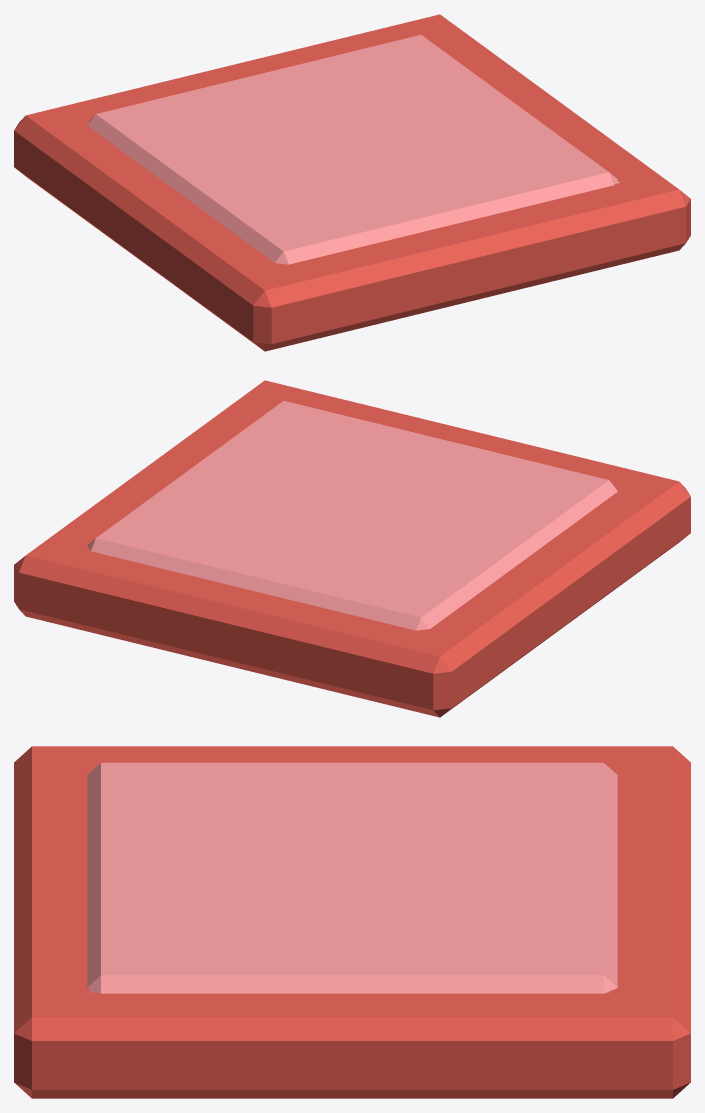
The picture shows the model from 3 angles, top to bottom: view 1: azimuth 30°, elevation 25°; view 2: azimuth 150°, elevation 25°; view 3: azimuth 270°, elevation 25°; orthographic projection. The views are drawn at different scales.
Visible parts, largest first — view 1: Cube.001; view 2: Cube.001; view 3: Cube.001.
Boxes of the visible parts, x1,y1,x2,y2 form: Cube.001: (14, 14, 690, 351); Cube.001: (14, 380, 690, 717); Cube.001: (14, 746, 690, 1098).
Size of the model in its own units: 300 by 46.1 by 300.
